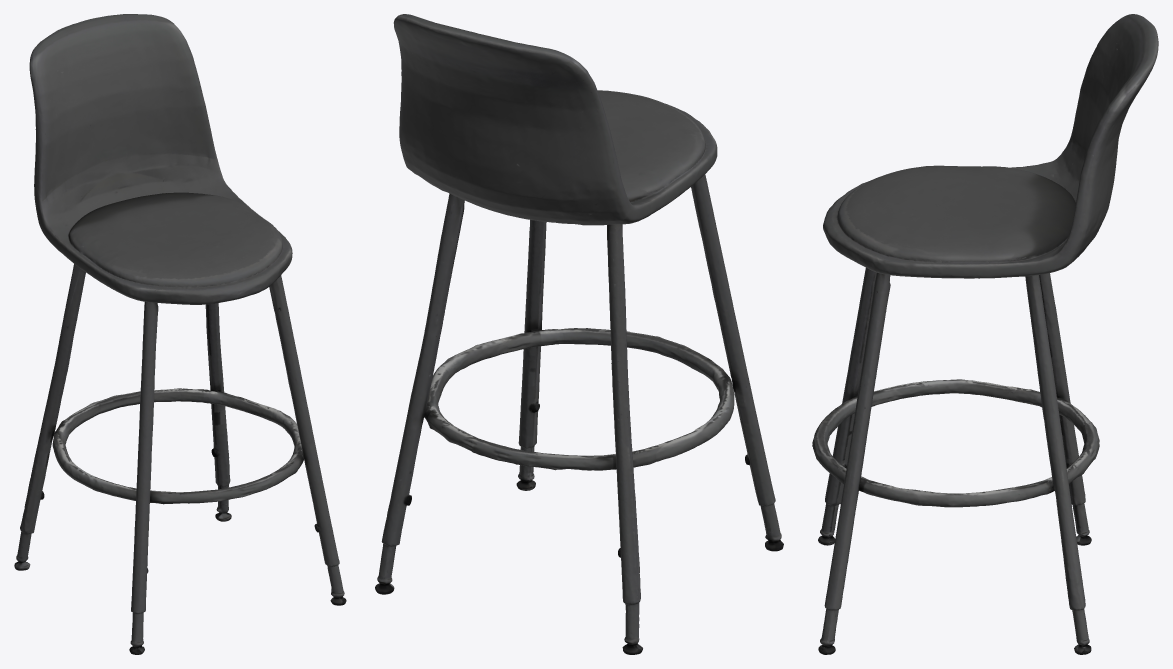
Rendered from Make_a_duplicate_3d_c_1111023302_texture.glb.
The picture shows the model from 3 angles, left to right: view 1: azimuth 30°, elevation 25°; view 2: azimuth 150°, elevation 25°; view 3: azimuth 270°, elevation 25°; orthographic projection. The views are drawn at different scales.
Bounding box in the file's own units: 0.8799 × 1.9 × 1.07.
Materials: 1 (1 with a texture image).
